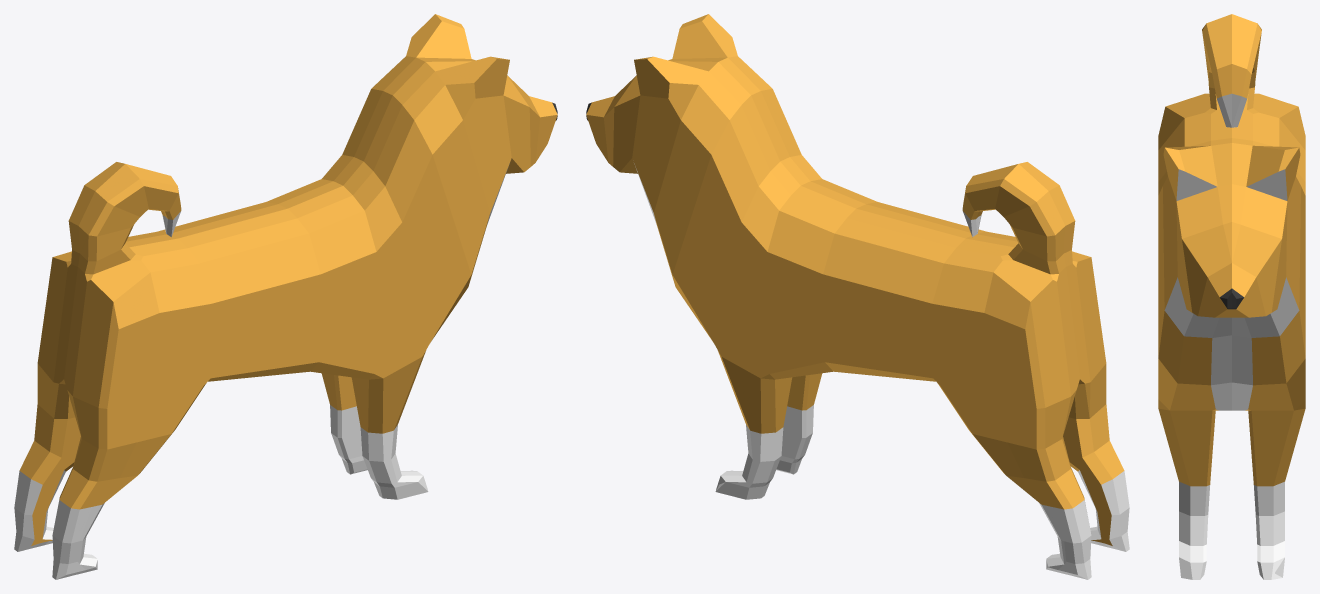
The model's file is 低ポリわんちゃん.fbx.
The picture shows the model from 3 angles, left to right: view 1: azimuth 30°, elevation 25°; view 2: azimuth 150°, elevation 25°; view 3: azimuth 270°, elevation 25°; orthographic projection. The views are drawn at different scales.
Parts seen in each view (by area): view 1: 平面; view 2: 平面; view 3: 平面.
Boxes of the visible parts, bbox=[...] form: 平面: bbox=[14, 14, 557, 579]; 平面: bbox=[586, 14, 1129, 579]; 平面: bbox=[1158, 14, 1305, 579].
Bounding box in the file's own units: 666 × 519 × 149.
